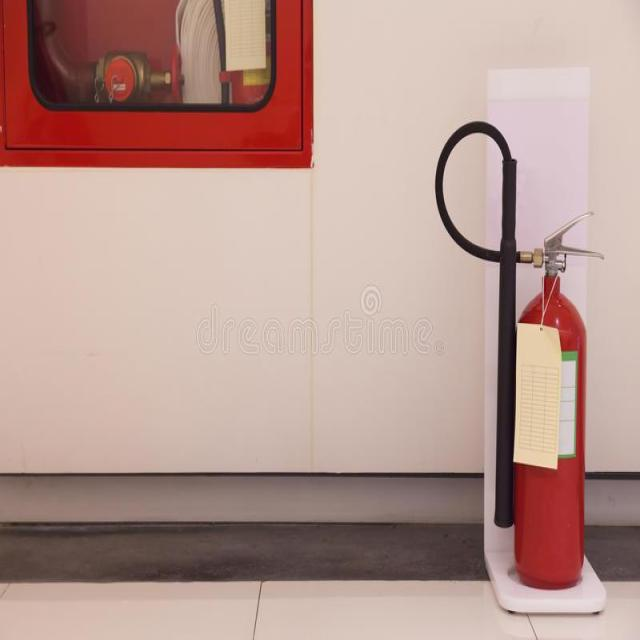fire_extinguisher: (430, 119, 607, 594), (208, 0, 293, 115)
